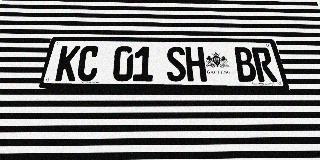0: (112, 46, 134, 81)
1: (133, 46, 153, 81)
B: (233, 47, 258, 82)
C: (76, 46, 100, 81)
H: (185, 47, 207, 82)
K: (54, 46, 81, 81)
R: (251, 47, 278, 82)
S: (166, 47, 187, 82)
